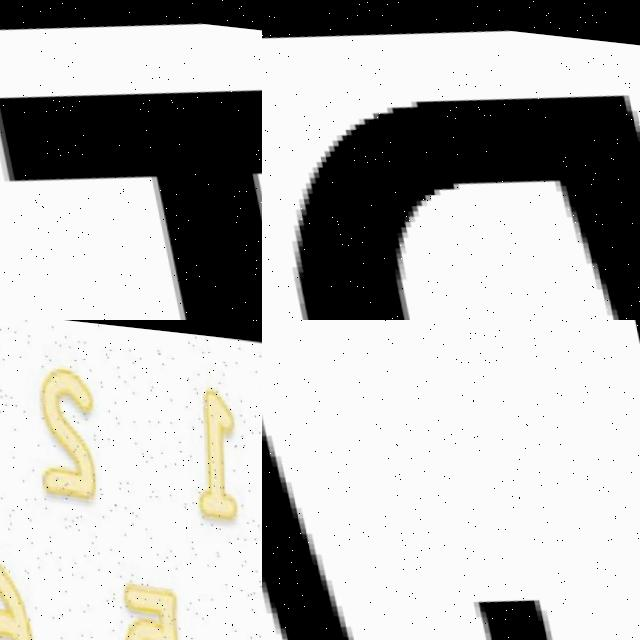1: (169, 363, 262, 527)
2: (14, 347, 125, 507)
5: (92, 558, 206, 640)
6: (0, 538, 59, 640)
D: (262, 27, 640, 320)
J: (262, 320, 582, 640)
T: (0, 28, 262, 320)
